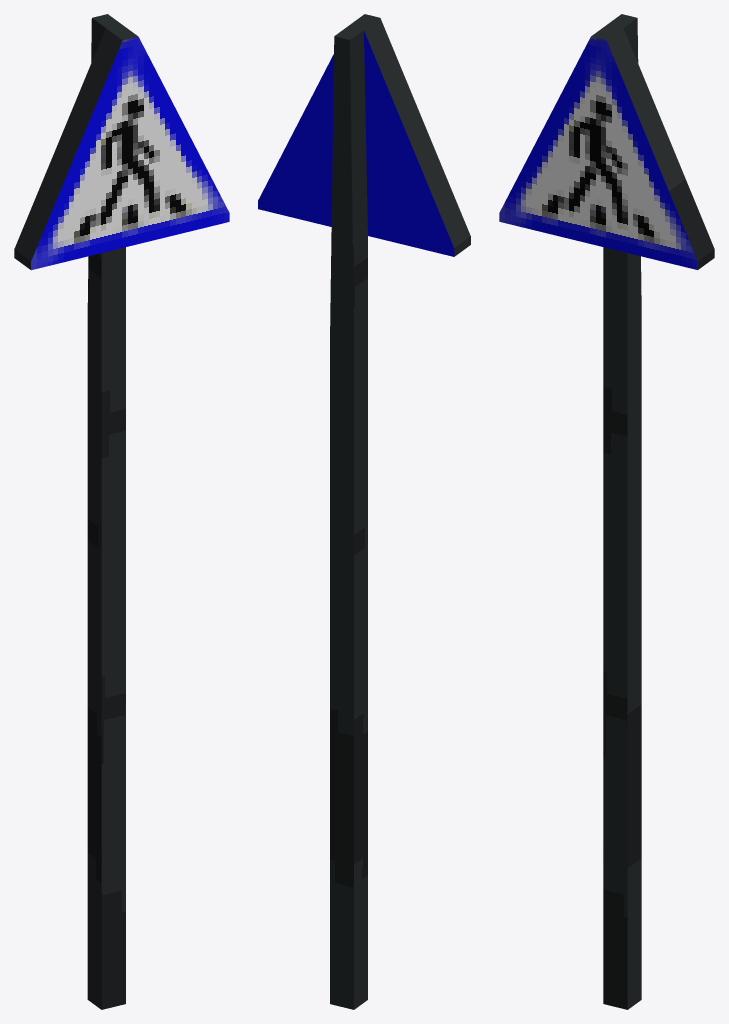
Rendered from znak.glb.
The picture shows the model from 3 angles, left to right: view 1: azimuth 30°, elevation 25°; view 2: azimuth 150°, elevation 25°; view 3: azimuth 330°, elevation 25°; orthographic projection.
Parts seen in each view (by area): view 1: Cube.008; view 2: Cube.008; view 3: Cube.008.
Boxes of the visible parts, x1,y1,x2,y2 form: Cube.008: [14, 14, 229, 1009]; Cube.008: [258, 14, 470, 1009]; Cube.008: [499, 14, 714, 1009].
Bounding box in the file's own units: 1.7 × 8.01 × 0.4564.
1 material, 1 textured.
